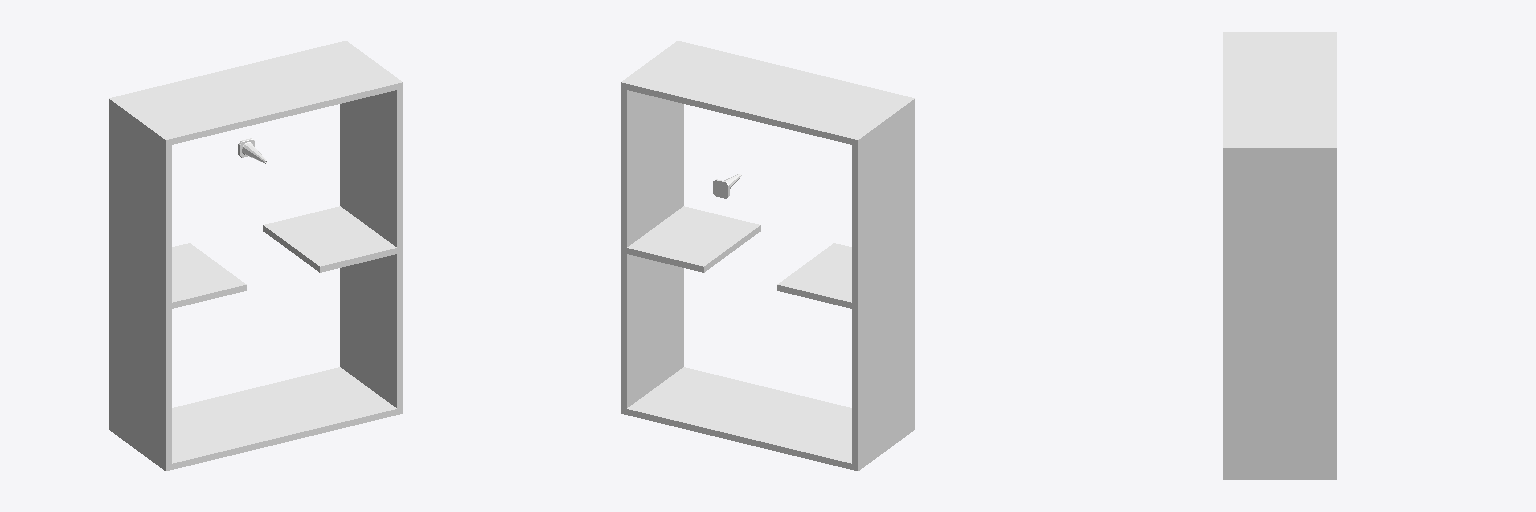
File: wall2.obj
3 views of the same model, side by side, from view 1: azimuth 30°, elevation 25°; view 2: azimuth 150°, elevation 25°; view 3: azimuth 270°, elevation 25° (orthographic).
Visible parts, largest first — view 1: visuals; view 2: visuals; view 3: visuals.
Part boxes in pixels (x1,y1,x2,y2): visuals: (109, 41, 402, 470); visuals: (621, 41, 914, 470); visuals: (1223, 32, 1336, 479).
Bounding box in the file's own units: 6 × 8 × 2.5.